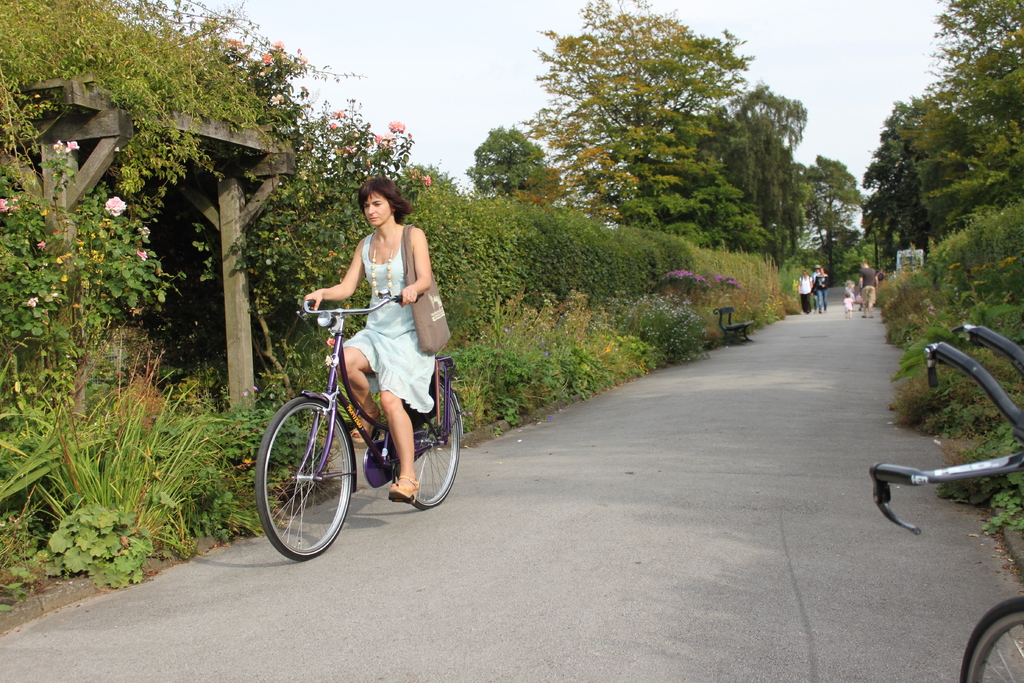Bike_toward: (234, 304, 489, 584)
